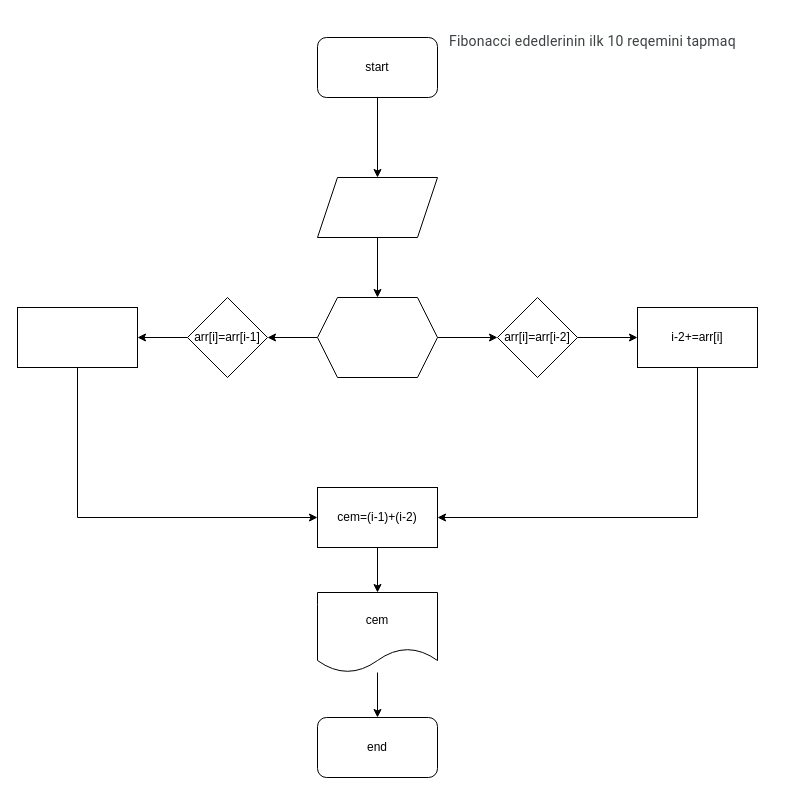
The diagram is 795 pixels wide and 795 high, and some of its shapes have lost their labels. Here are the shapes that lost their labels. From the top down, the box of each, then its label:
(316, 176, 438, 238): arr=[0,1]
(16, 306, 138, 368): i-1+=arr[i]
(316, 296, 438, 378): i=2; i<= 10; i++
